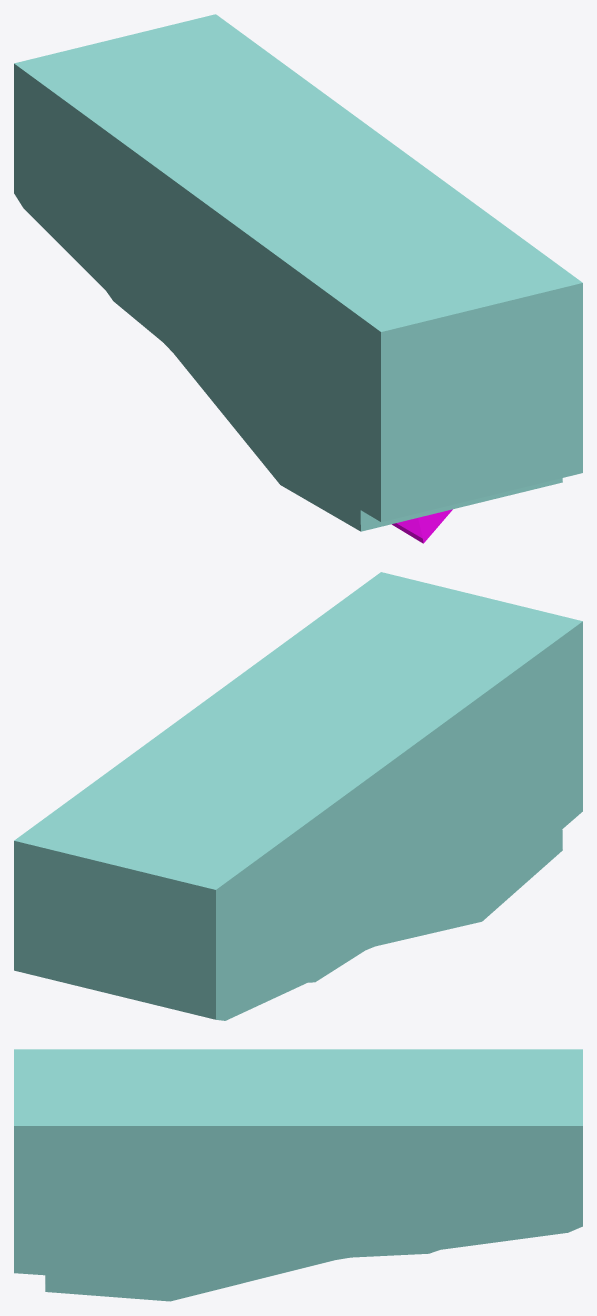
The model's file is Slot_Machine_02_Final.fbx.
3 renders of one model, top to bottom at view 1: azimuth 30°, elevation 25°; view 2: azimuth 150°, elevation 25°; view 3: azimuth 270°, elevation 25°, orthographic. The views are drawn at different scales.
Parts seen in each view (by area): view 1: Slot_Machine_3; view 2: Slot_Machine_3; view 3: Slot_Machine_3.
Boxes of the visible parts, x1=… form: Slot_Machine_3: x1=14, y1=14, x2=582, y2=543; Slot_Machine_3: x1=14, y1=572, x2=582, y2=1020; Slot_Machine_3: x1=14, y1=1049, x2=582, y2=1301.
Size of the model in its own units: 6.84 by 7.67 by 21.56.
